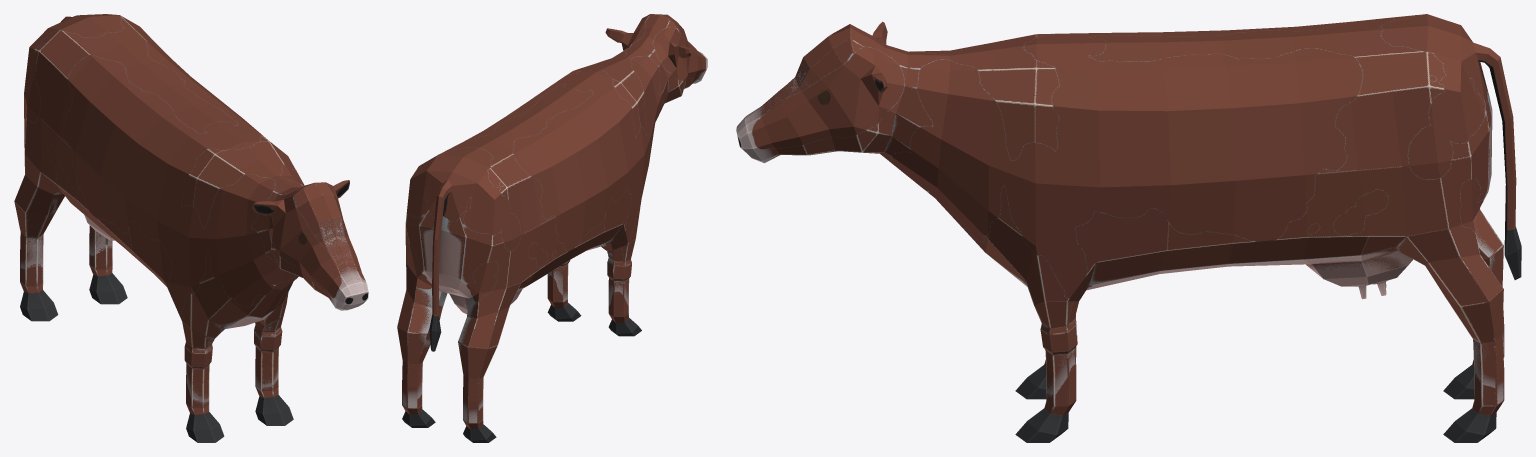
Rendered from Cow_Rotvieh.obj.
3 views of the same model, side by side, from view 1: azimuth 30°, elevation 25°; view 2: azimuth 150°, elevation 25°; view 3: azimuth 270°, elevation 25° (orthographic). The views are drawn at different scales.
Parts seen in each view (by area): view 1: Cow_mesh; view 2: Cow_mesh; view 3: Cow_mesh.
Boxes of the visible parts, x1,y1,x2,y2 form: Cow_mesh: [14, 14, 368, 442]; Cow_mesh: [397, 14, 707, 442]; Cow_mesh: [736, 14, 1521, 442].
Size of the model in its own units: 3.36 by 7.42 by 13.65.
1 material, 1 textured.
